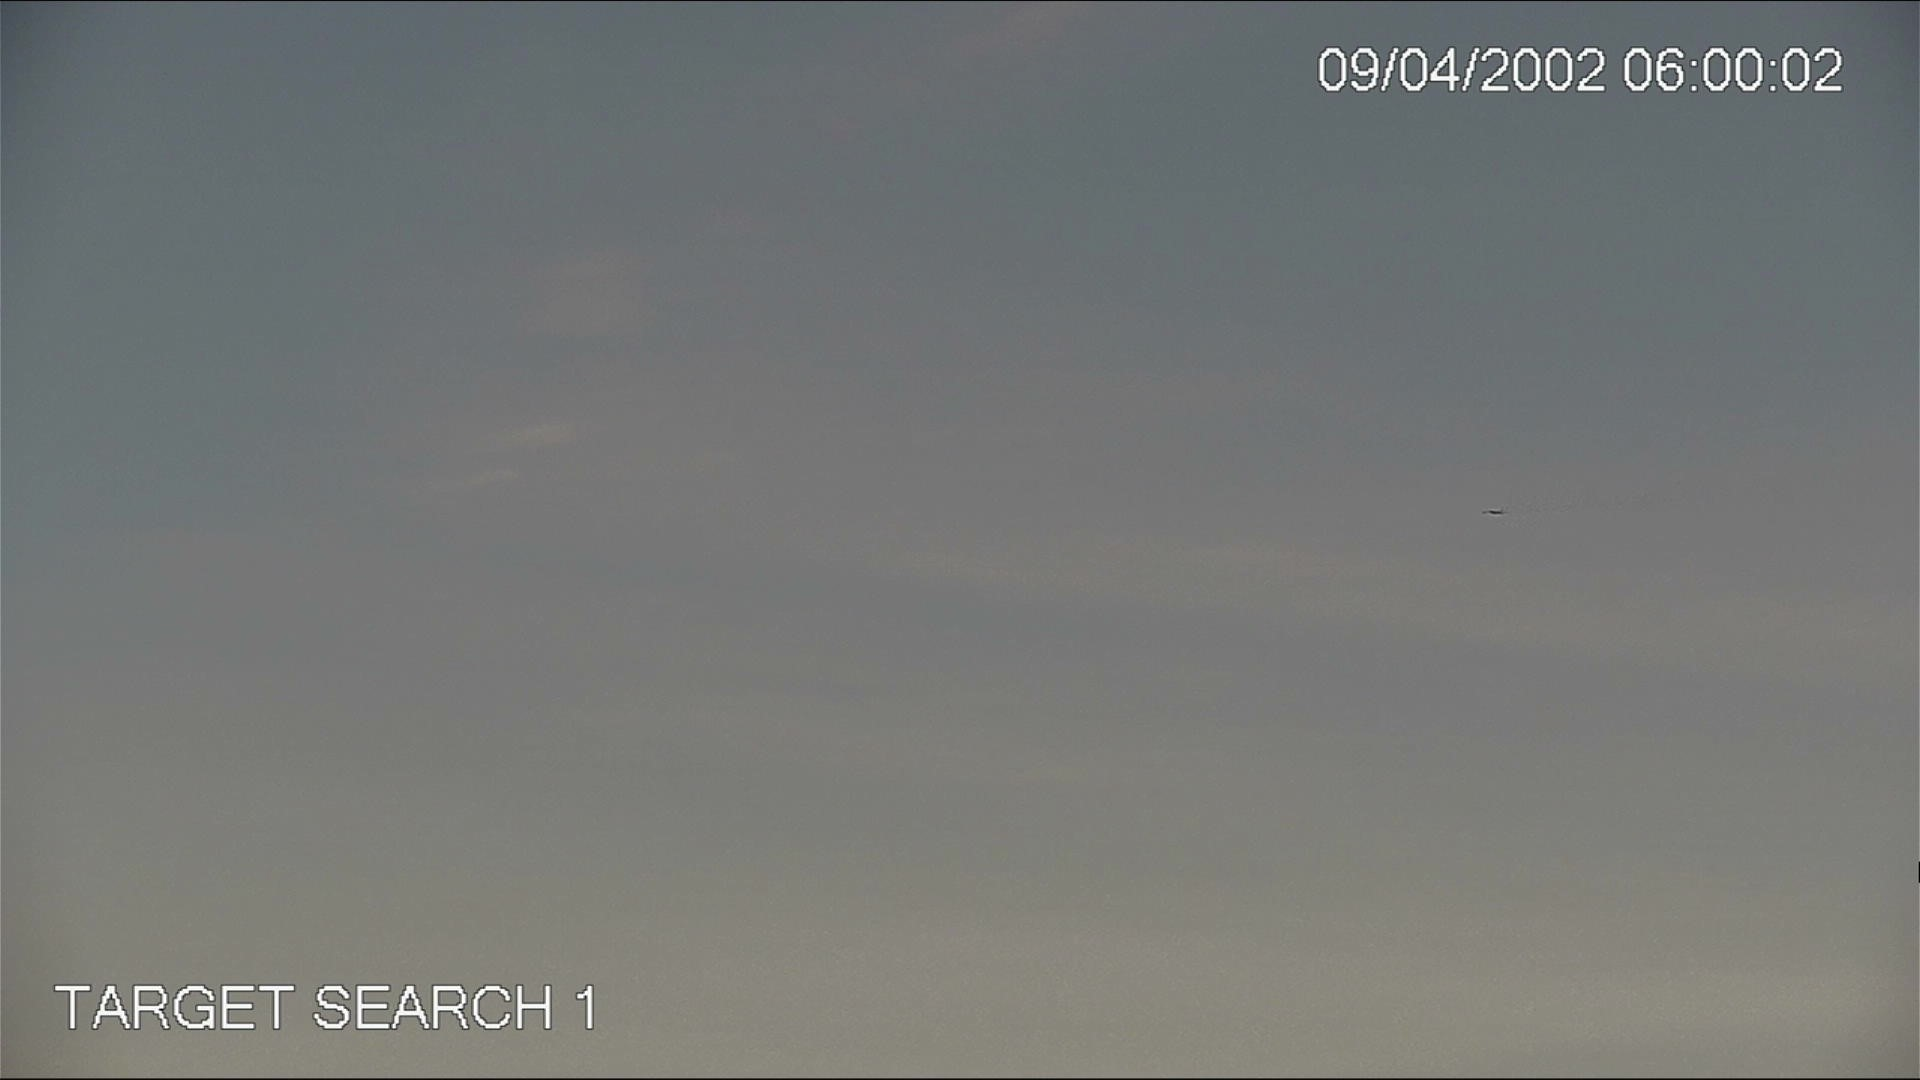SU_30: (1482, 506, 1505, 516)
